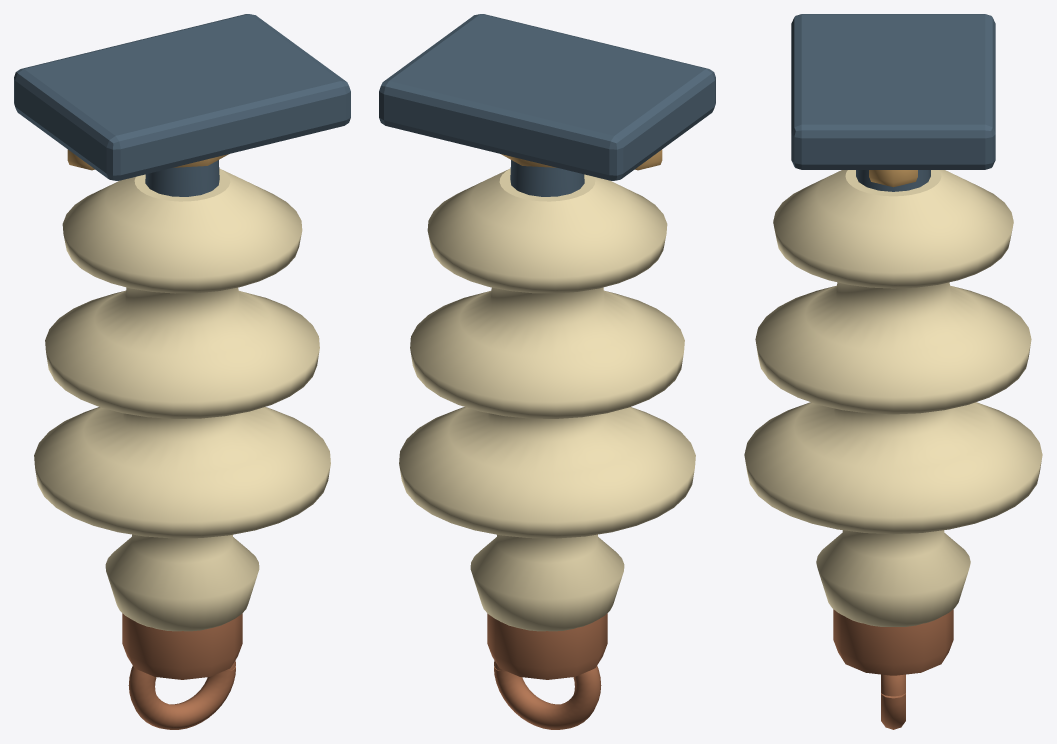
3 renders of one model, left to right at view 1: azimuth 30°, elevation 25°; view 2: azimuth 150°, elevation 25°; view 3: azimuth 270°, elevation 25°, orthographic.
Parts seen in each view (by area): view 1: PR135 enamel and hardware; view 2: PR135 enamel and hardware; view 3: PR135 enamel and hardware.
Part boxes in pixels (left/top/right/bottom): PR135 enamel and hardware: left=14, top=14, right=350, bottom=729; PR135 enamel and hardware: left=379, top=14, right=715, bottom=729; PR135 enamel and hardware: left=744, top=14, right=1042, bottom=729.
Size of the model in its own units: 0.1899 by 0.46 by 0.1899.
